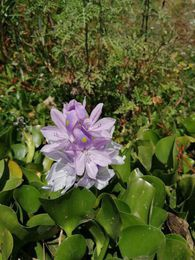water_hyacinth: (2, 104, 194, 260)
